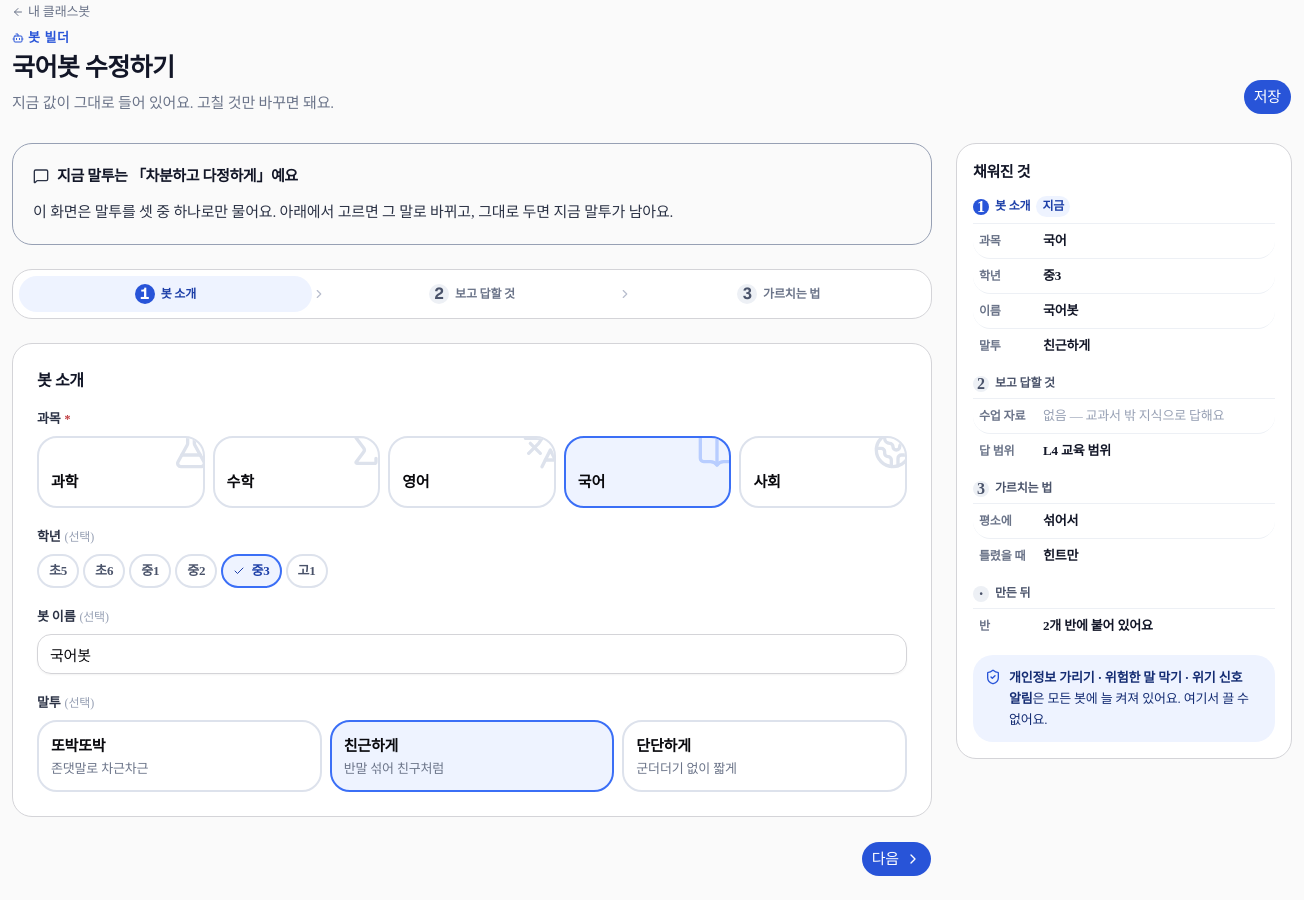
Test: 빈 빌더가 아니라 그 봇의 지금 값으로 열린다 › 셋으로 표현 못 하는 말투는 원문을 그대로 든다 — 눌린 칩만 두면 교사가 제 말이 사라진 줄 안다
expect the heading "지금 말투는 「차분하고 다정하게」예요" is shown: met, box [57,164,298,188]
expect the text with test id "bot-edit-custom-tone" shows "그대로 두면 지금 말투가 남아요": met, box [33,204,673,220]
말투를 실제로 건드리면 그때부터는 고른 것이 저장될 값이라 안내를 걷는다
Click the radio button labelled "단단하게 군더더기 없이 짧게" at (664, 746), box [622,720,907,792]
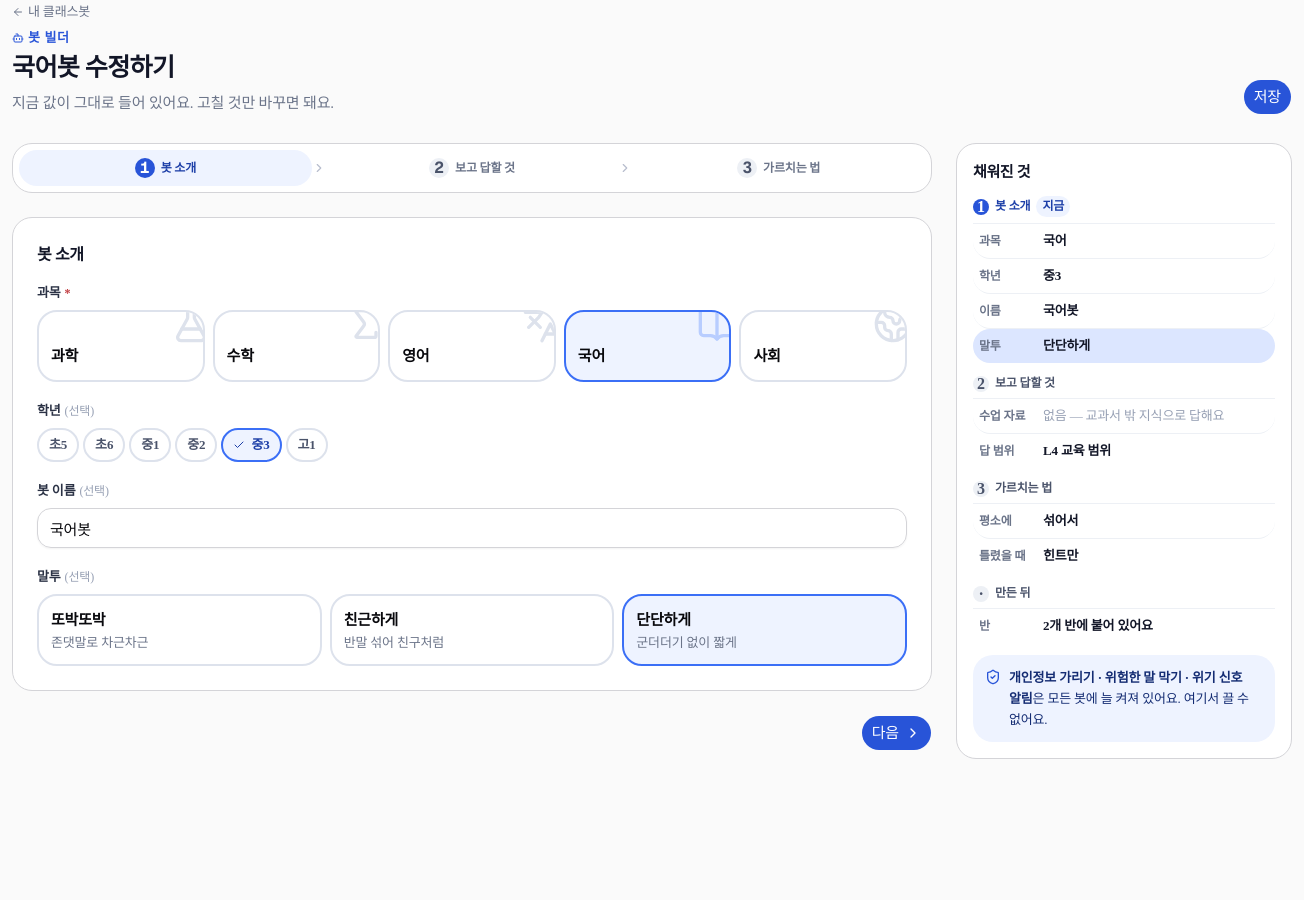
expect the text with test id "bot-edit-custom-tone" is gone: met
